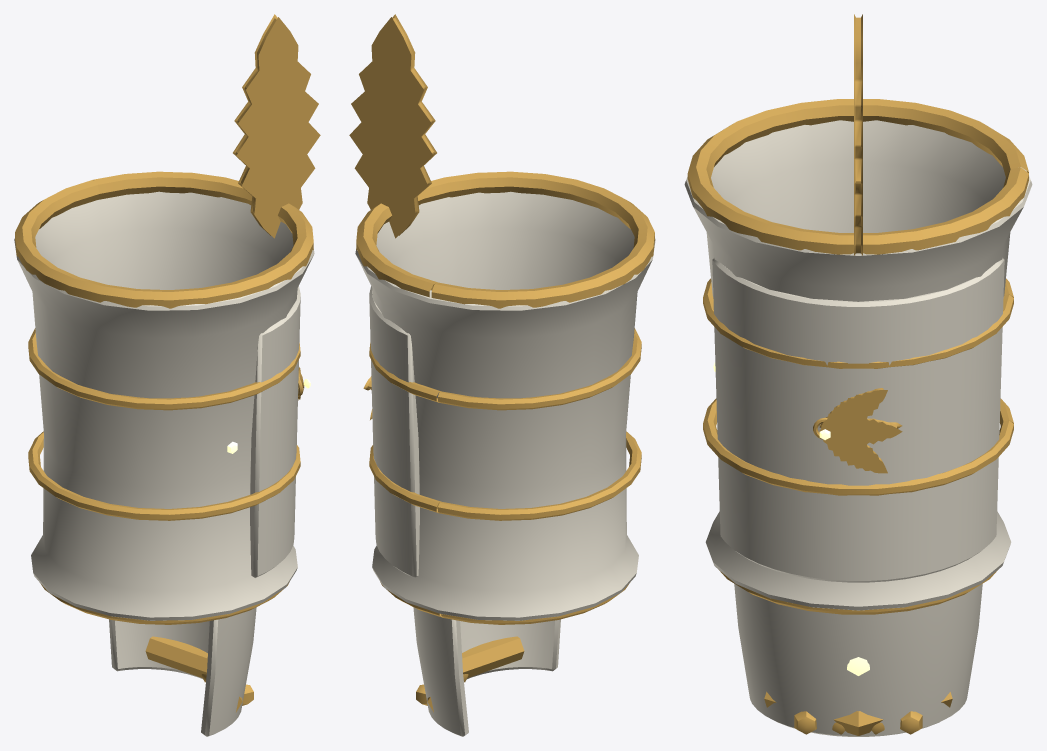
File: asc_dawnward_templar_gloves.glb
The picture shows the model from 3 angles, left to right: view 1: azimuth 30°, elevation 25°; view 2: azimuth 150°, elevation 25°; view 3: azimuth 270°, elevation 25°; orthographic projection. The views are drawn at different scales.
Parts seen in each view (by area): view 1: asc_dawnward_templar_gloves, AT_hand_L; view 2: asc_dawnward_templar_gloves, AT_hand_L; view 3: asc_dawnward_templar_gloves, AT_hand_L.
Part boxes in pixels (x1,y1,x2,y2): asc_dawnward_templar_gloves: (14, 14, 320, 624); AT_hand_L: (109, 607, 256, 736); asc_dawnward_templar_gloves: (349, 14, 655, 624); AT_hand_L: (413, 607, 560, 736); asc_dawnward_templar_gloves: (684, 14, 1032, 614); AT_hand_L: (734, 584, 982, 736).
Size of the model in its own units: 0.2155 by 0.4777 by 0.2004.
